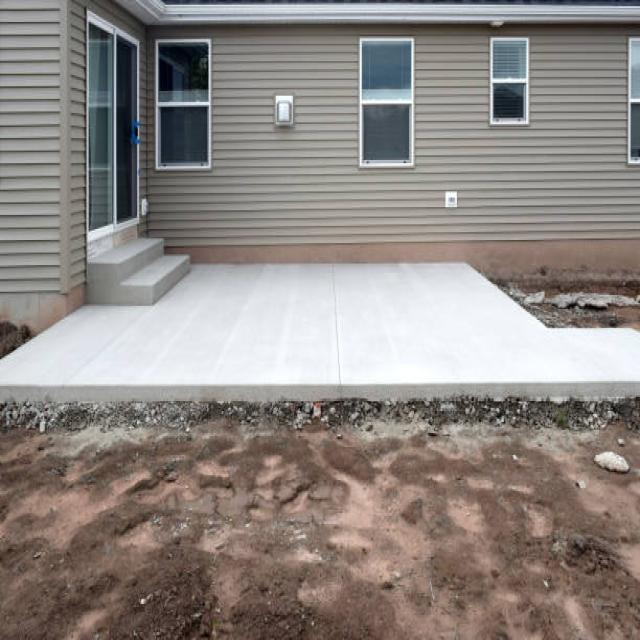Concrete: (0, 238, 640, 406)
